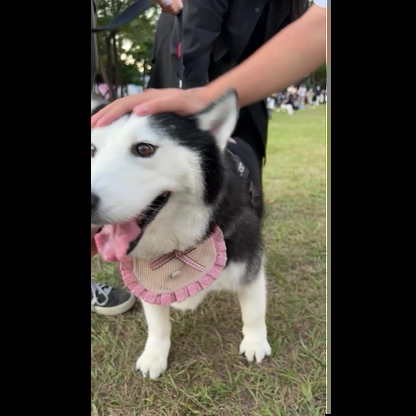husky: (94, 89, 280, 383)
